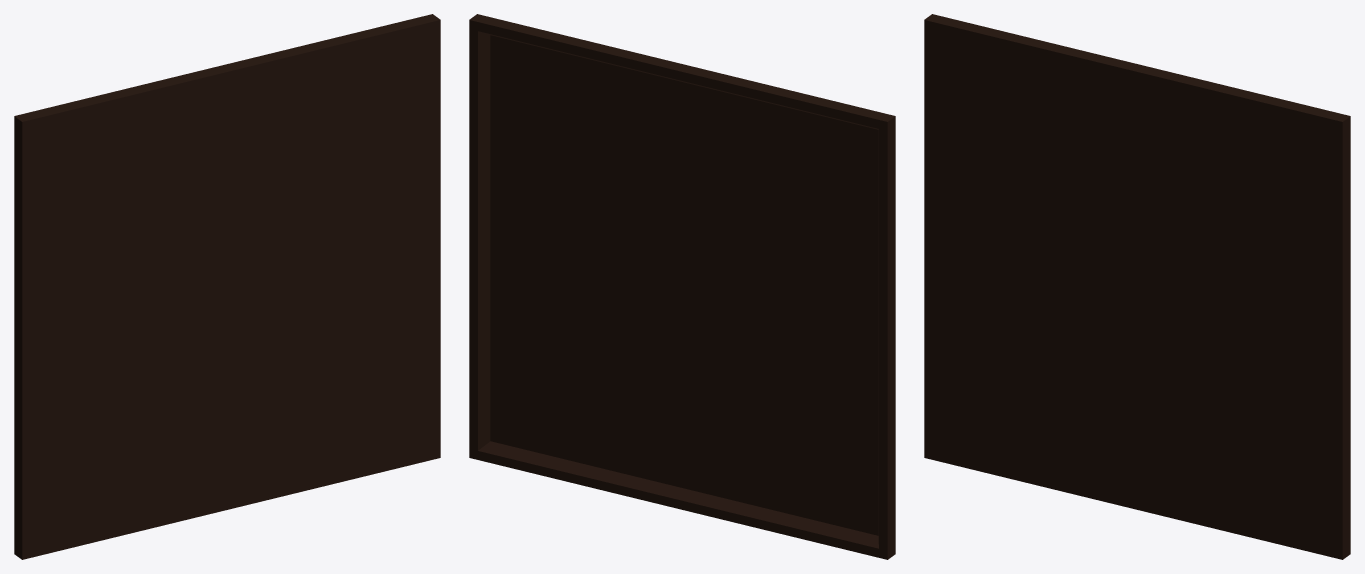
Rendered from picture_lod0.fbx.
3 views of the same model, side by side, from view 1: azimuth 30°, elevation 25°; view 2: azimuth 150°, elevation 25°; view 3: azimuth 330°, elevation 25° (orthographic).
Parts seen in each view (by area): view 1: Box009; view 2: Box009; view 3: Box009.
Boxes of the visible parts, x1=… form: Box009: x1=14, y1=14, x2=440, y2=559; Box009: x1=469, y1=14, x2=895, y2=559; Box009: x1=924, y1=14, x2=1350, y2=559.
Size of the model in its own units: 64 by 2.13 by 64.
